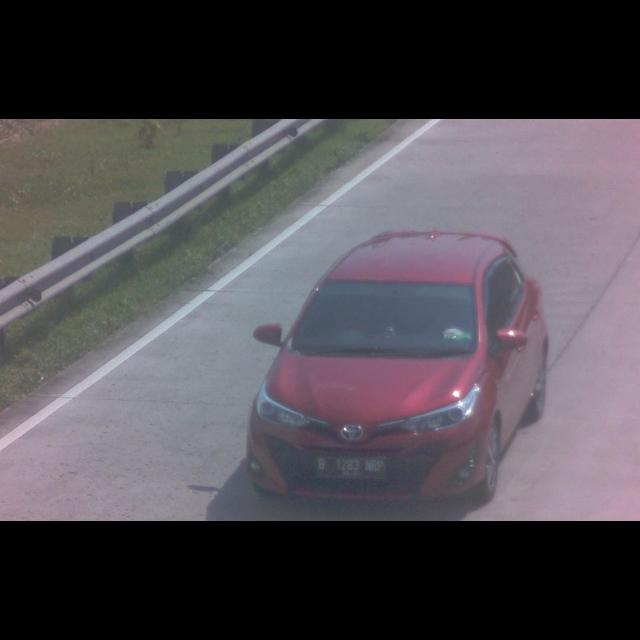plate: (318, 452, 386, 480)
